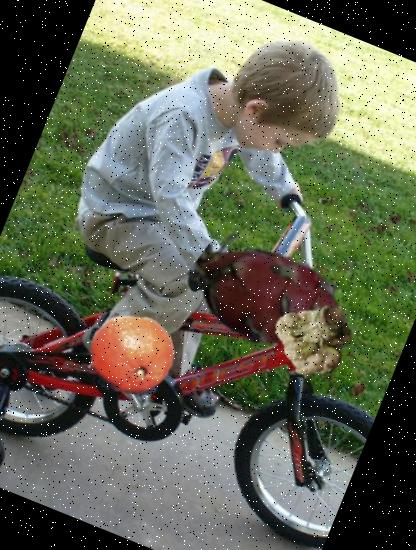Cauliflower: (266, 291, 366, 392)
Clementine: (72, 297, 187, 412)
Pitahaya: (167, 197, 360, 390)
